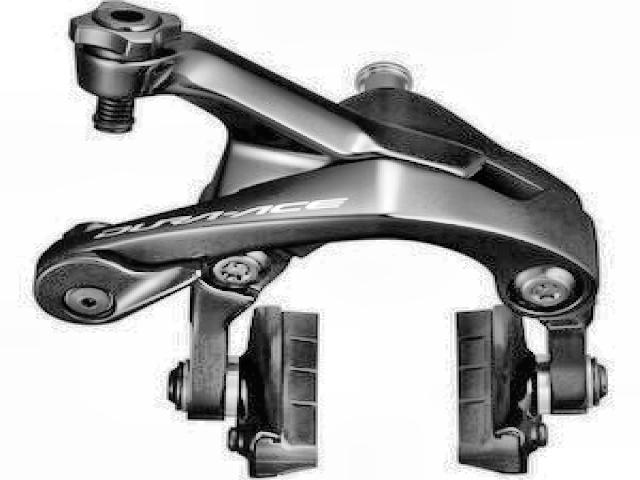rim_brake: (34, 4, 612, 479)
